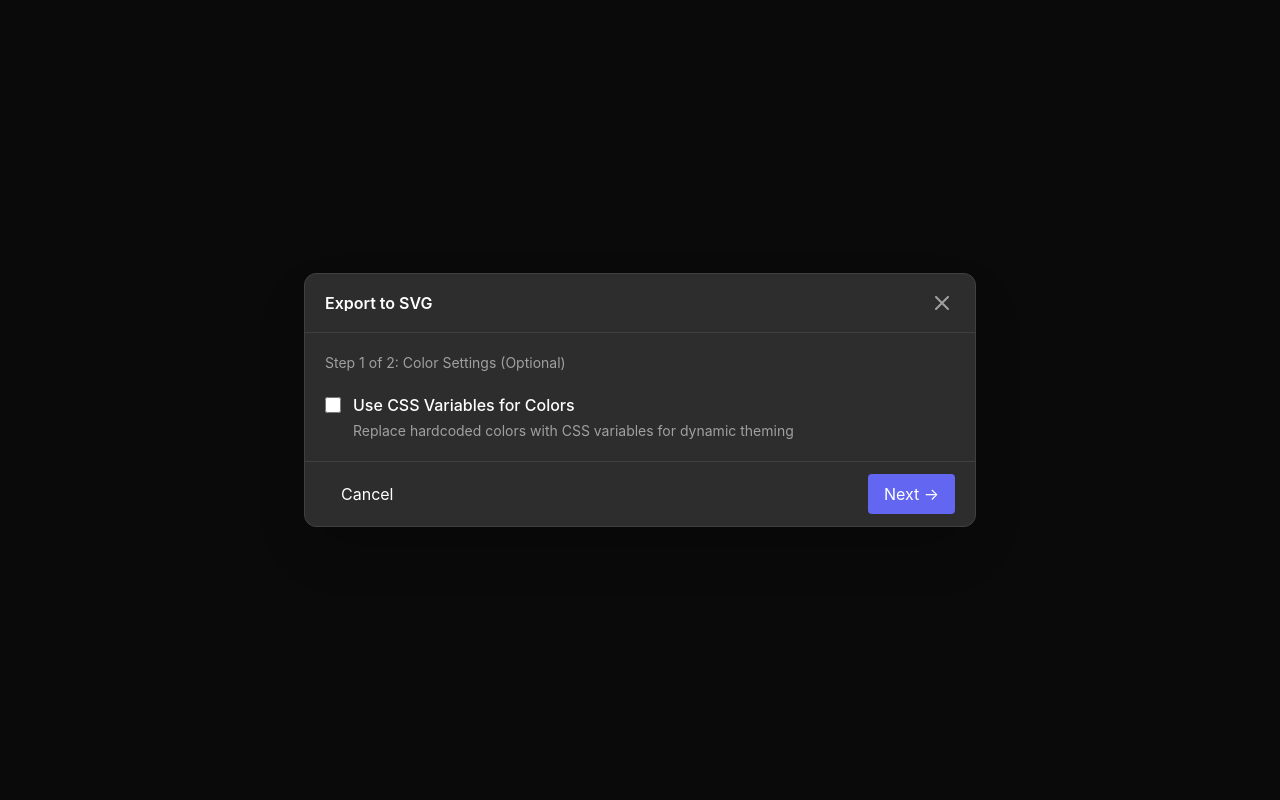
Test case: ExportSVGModal › step navigation › Step 2 shows a "← Back" button to return to Step 1
Click the button "Next →" at (911, 494), box [868,474,955,514]
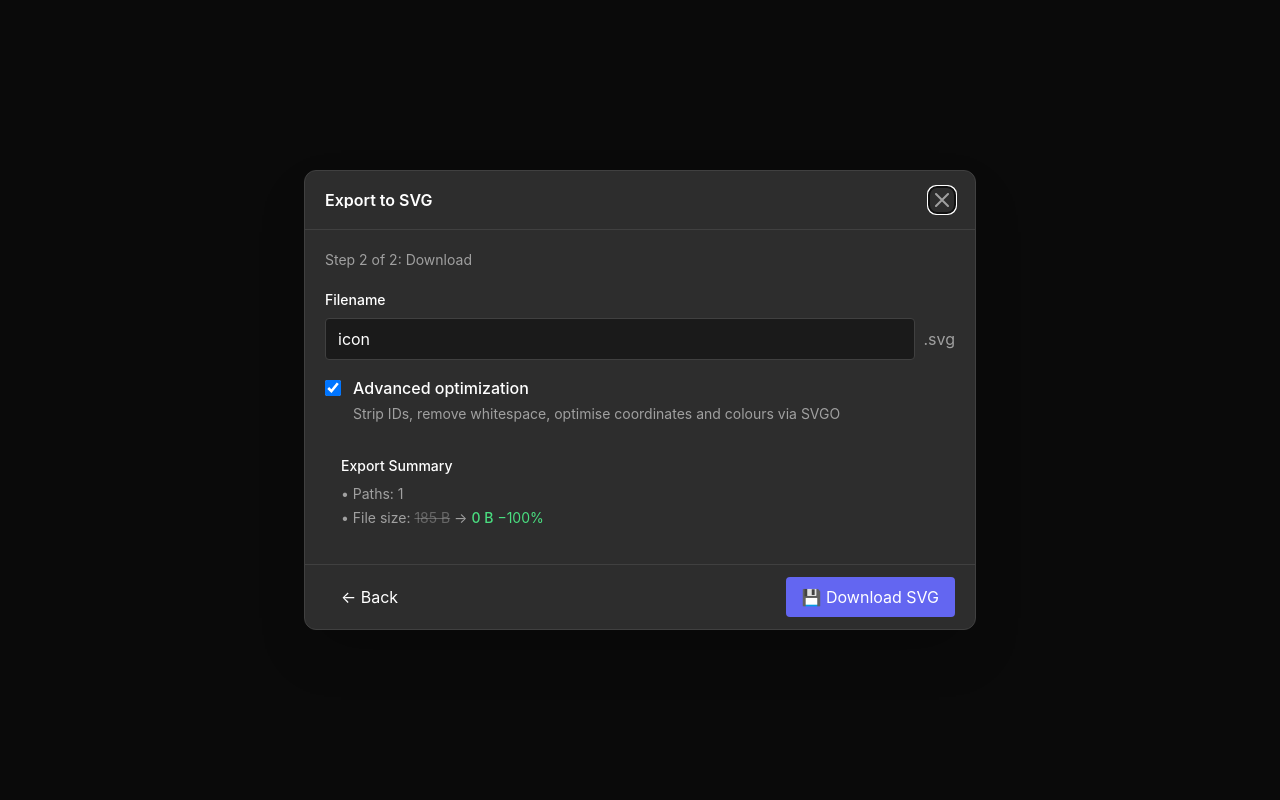
Result: the button "← Back" is shown at [325,577,414,617]
